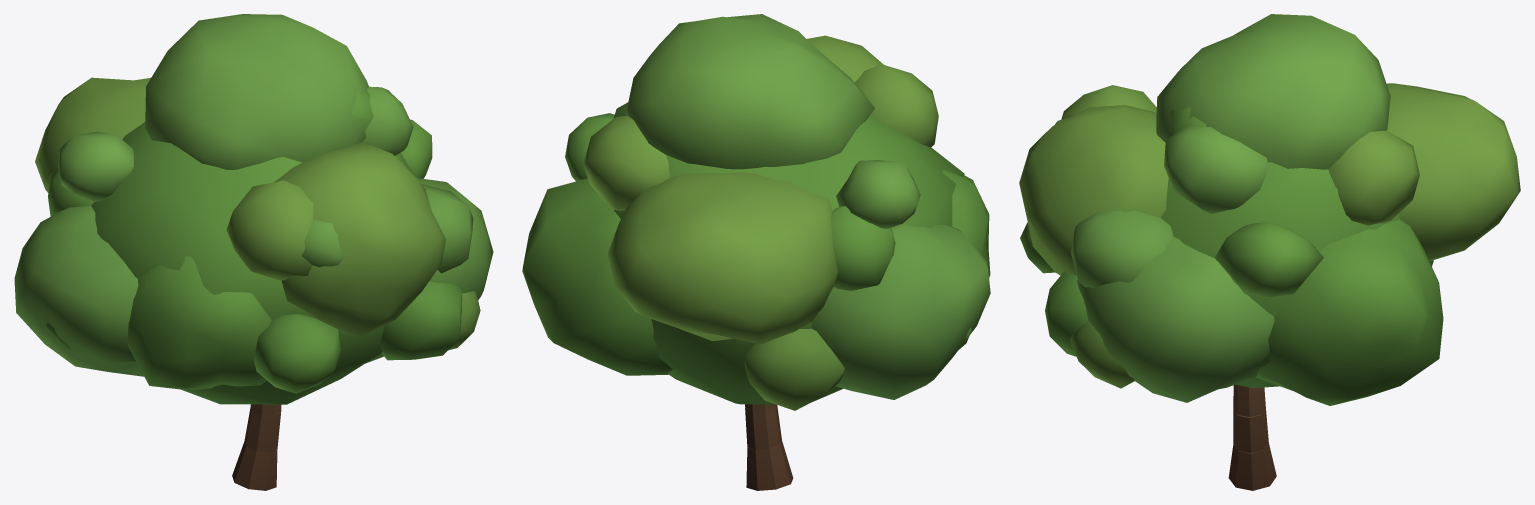
File: oak-0.glb
3 views of the same model, side by side, from view 1: azimuth 30°, elevation 25°; view 2: azimuth 150°, elevation 25°; view 3: azimuth 270°, elevation 25° (orthographic). The views are drawn at different scales.
Visible parts, largest first — view 1: leaf, bark; view 2: leaf, bark; view 3: leaf, bark.
Part boxes in pixels (box(x1,y1,x2,y2)): leaf: box(14, 14, 493, 404); bark: box(232, 404, 281, 490); leaf: box(522, 14, 990, 410); bark: box(745, 404, 793, 490); leaf: box(1019, 14, 1520, 405); bark: box(1228, 384, 1276, 490).
Size of the model in its own units: 5.97 by 6.33 by 6.24.
